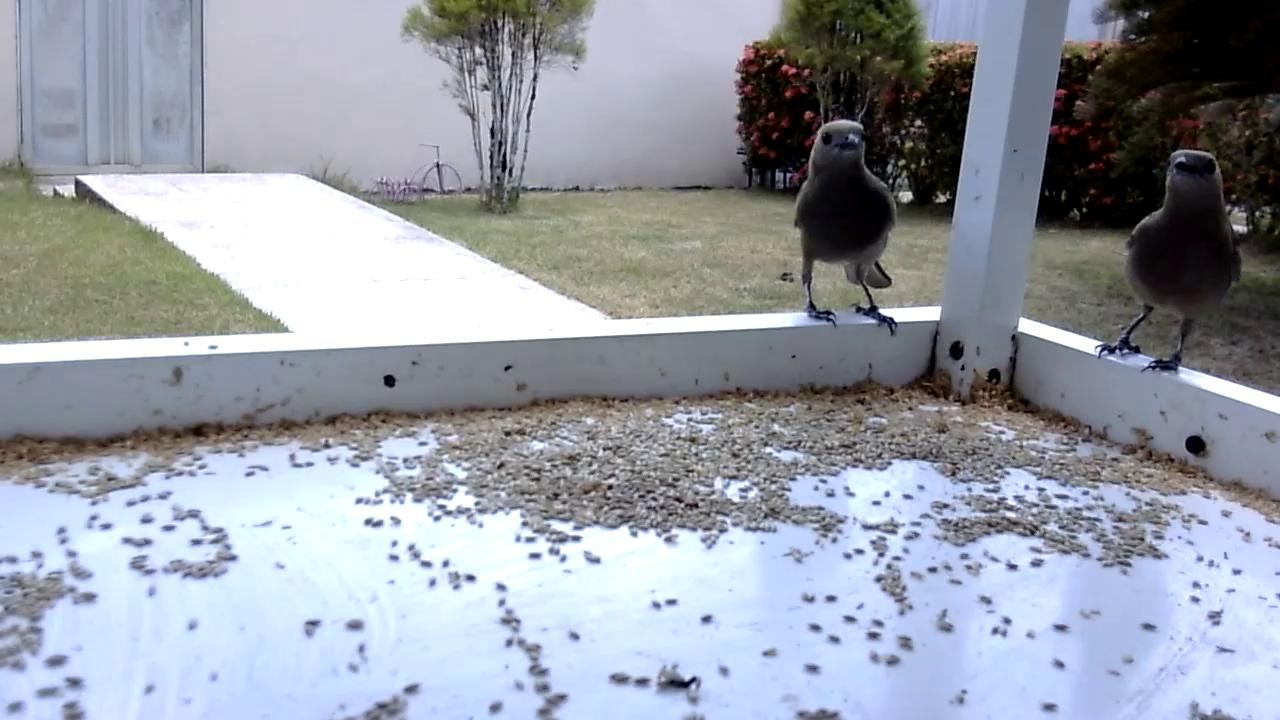sanhaco_do_coqueiro: (1089, 149, 1246, 377), (791, 115, 905, 342)
